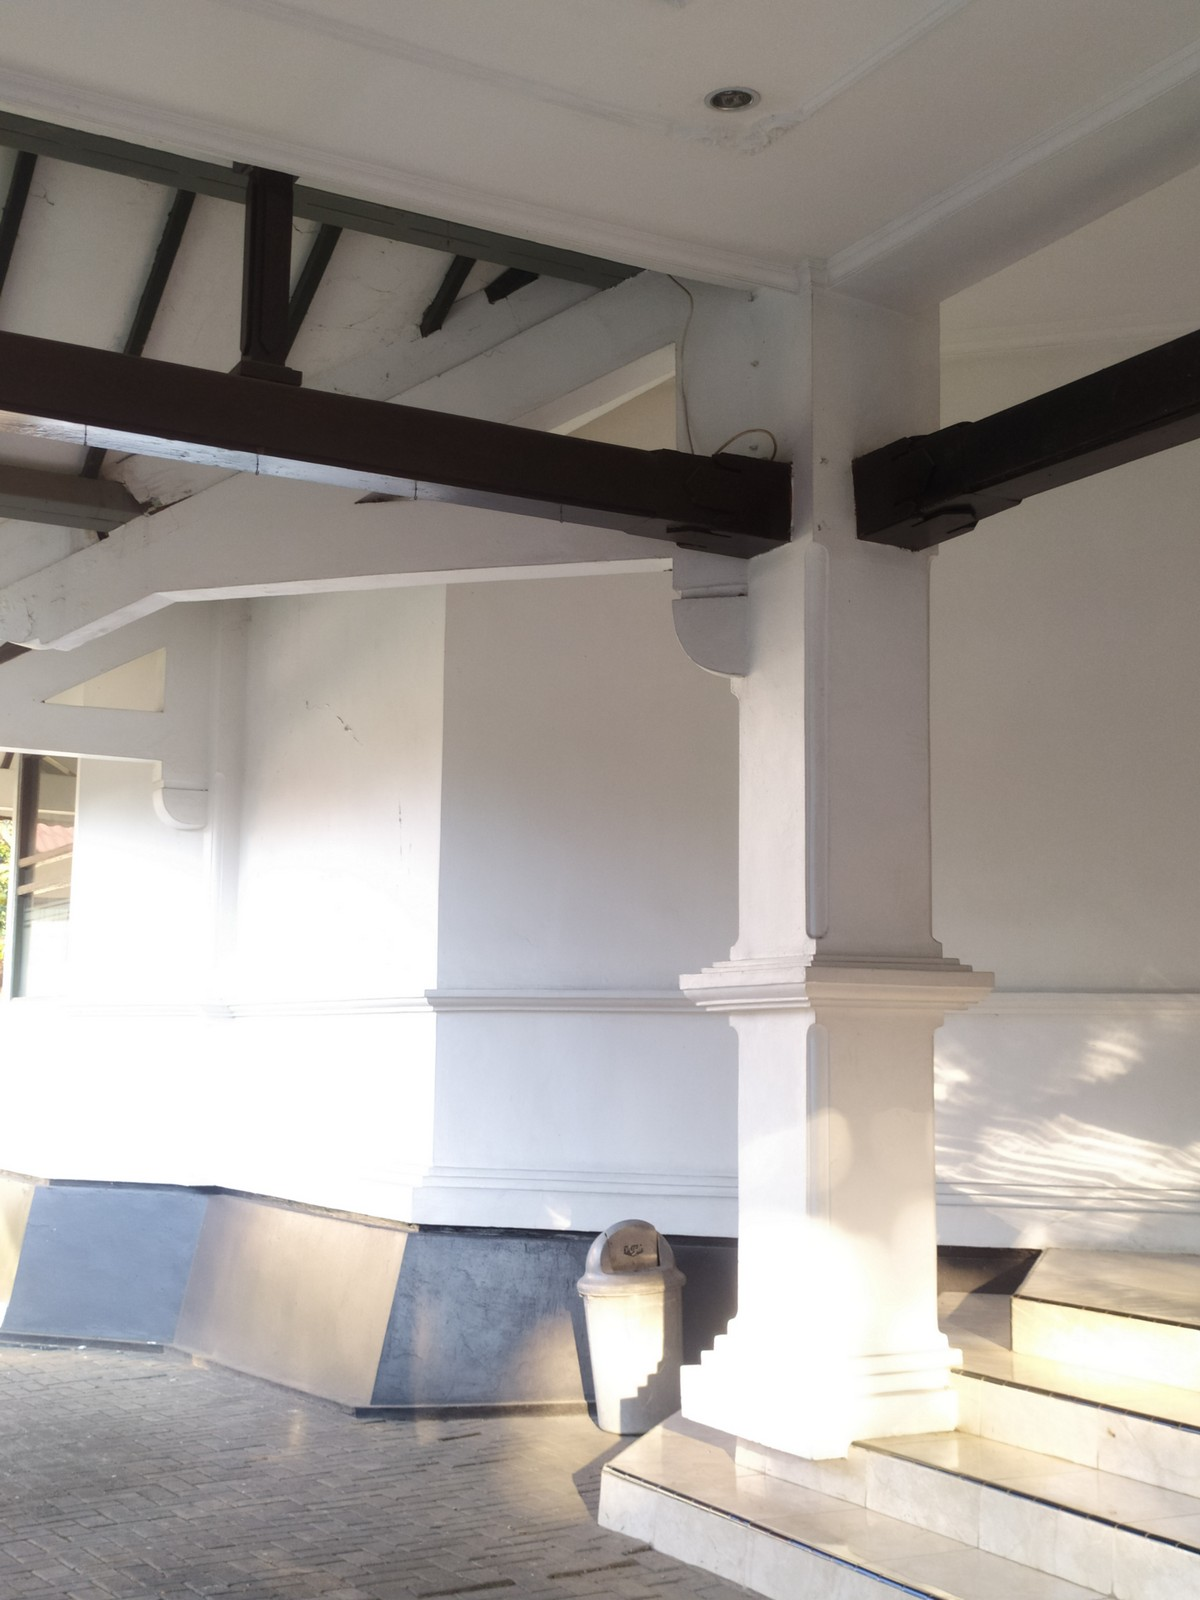concrete beam: (223, 489, 684, 598)
concrete column: (695, 569, 973, 1403)
